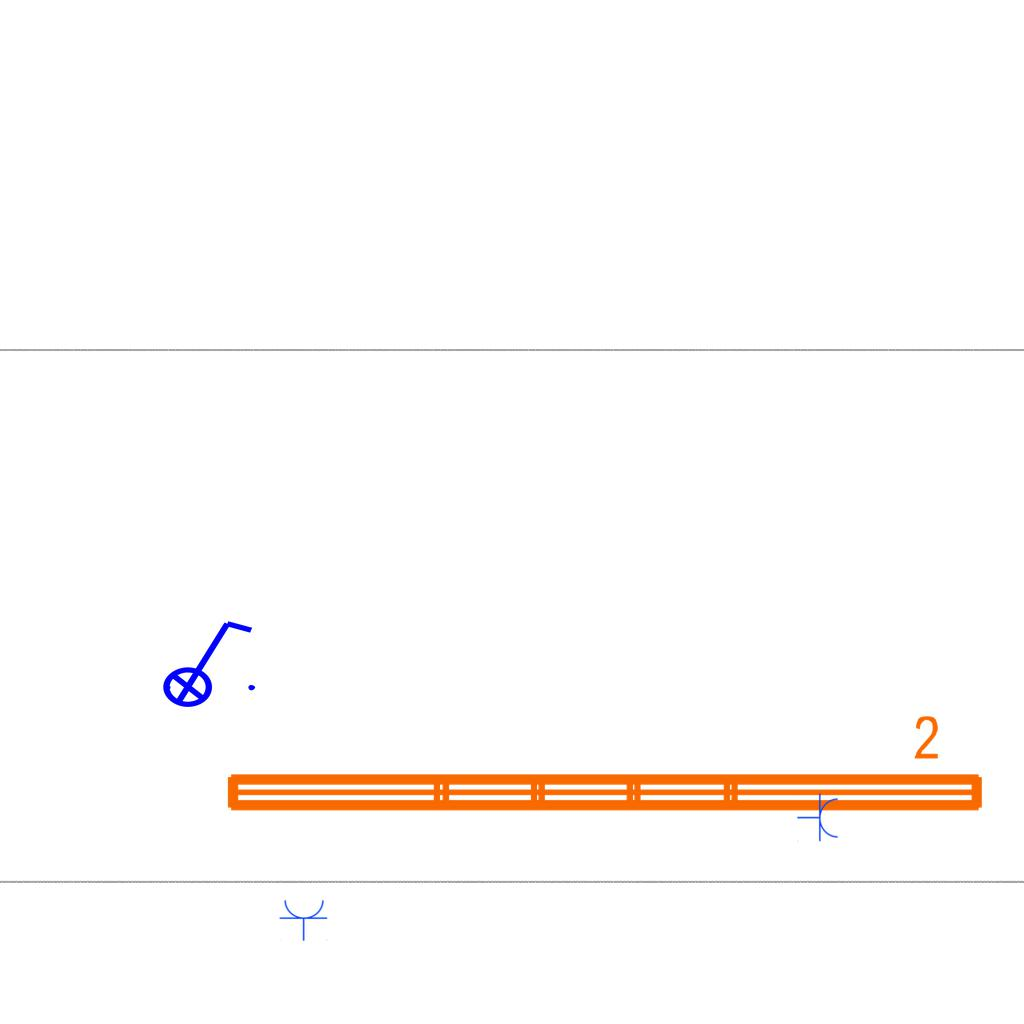Ambulanz_Pendelleuchte_LED: (217, 711, 991, 823)
Ausschalter_beleuchtet: (149, 613, 261, 709)
Schukosteckdose_einfach: (279, 898, 329, 941), (797, 793, 840, 843)
